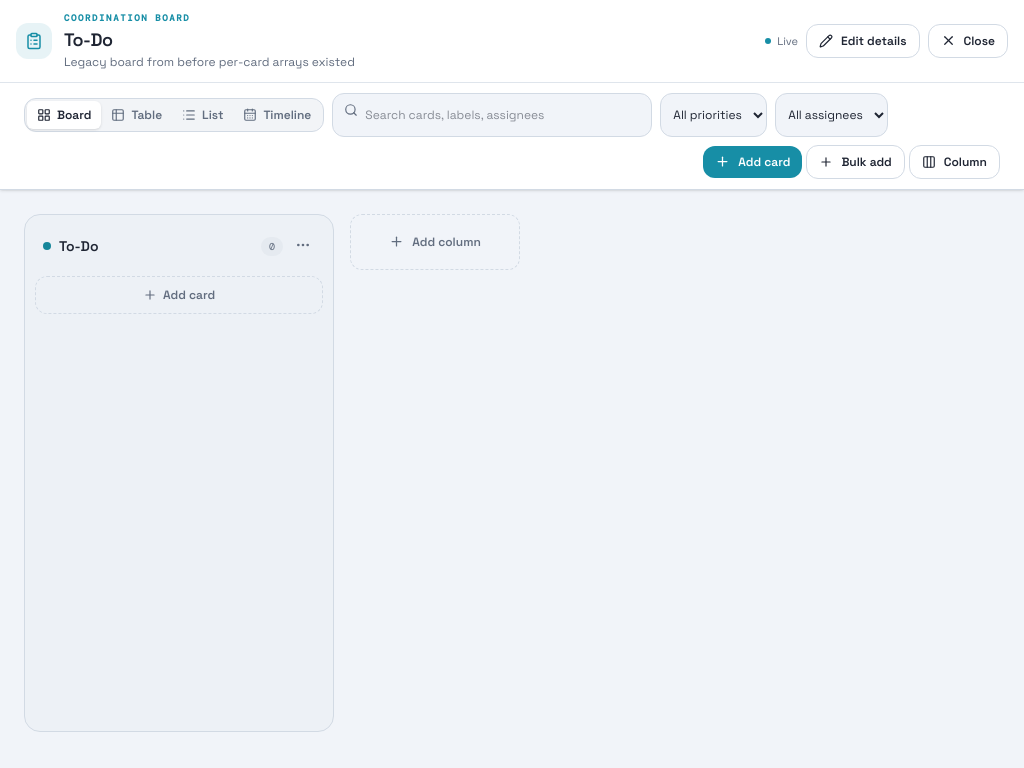
Test: legacy board data › BoardEditor survives a malformed cards field
Click the tab with test id "button-view-table" at [137, 114], box [101,100,172,128]
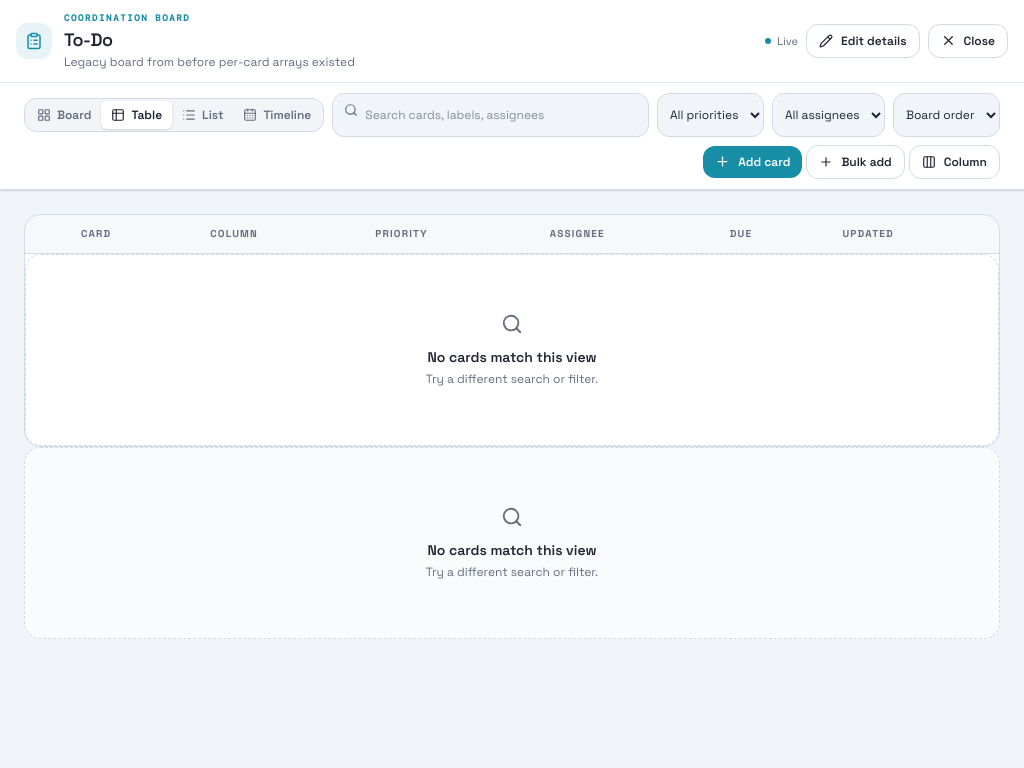
Expected: the element with test id "status-board-empty" is shown, [25,254,999,446]
